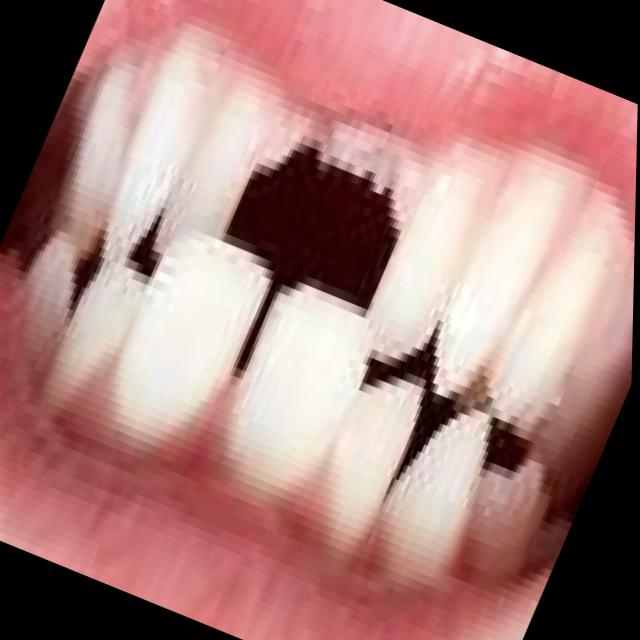hypodontia: (226, 142, 401, 309)
